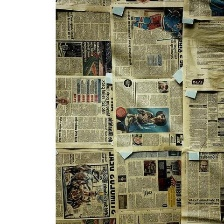news_paper: (40, 147, 115, 220), (111, 6, 183, 79), (112, 77, 183, 151), (46, 75, 113, 147), (116, 150, 181, 224), (54, 9, 113, 78), (180, 149, 224, 224), (182, 20, 224, 90), (181, 89, 223, 153), (183, 0, 224, 20), (51, 0, 111, 9), (110, 0, 183, 7), (53, 216, 115, 223)
